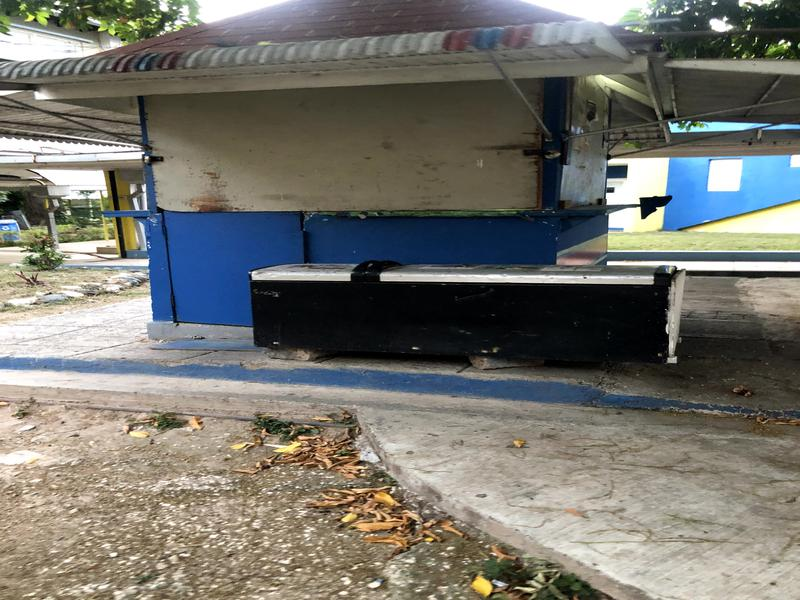18.0050609_-76.7496662_auntyjackie: (1, 1, 666, 379)
